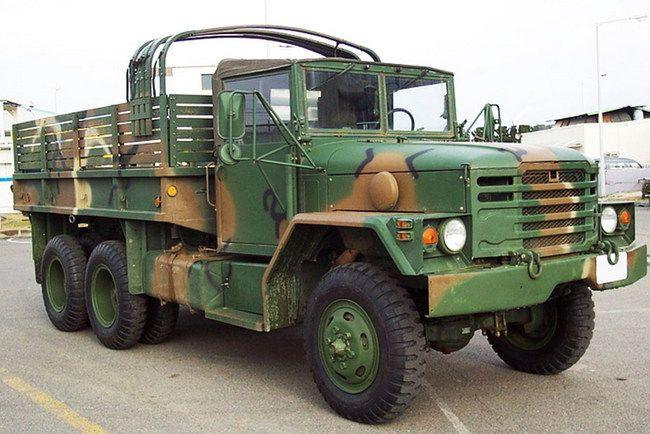ambulance: (12, 55, 598, 414)
